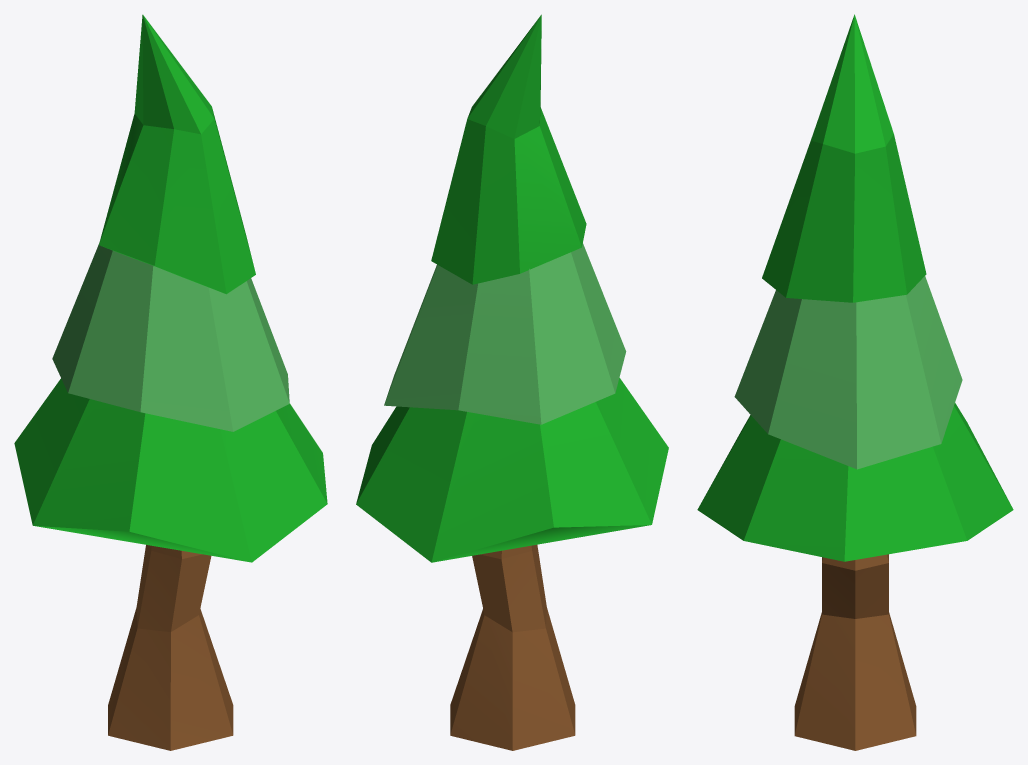
Rendered from tree.fbx.
3 renders of one model, left to right at view 1: azimuth 30°, elevation 25°; view 2: azimuth 150°, elevation 25°; view 3: azimuth 270°, elevation 25°, orthographic. The views are drawn at different scales.
Parts seen in each view (by area): view 1: tree1; view 2: tree1; view 3: tree1.
Boxes of the visible parts, x1,y1,x2,y2 form: tree1: (14, 14, 327, 750); tree1: (356, 14, 668, 750); tree1: (697, 14, 1013, 750).
Size of the model in its own units: 14.81 by 35.4 by 14.63.
1 material, 1 textured.
